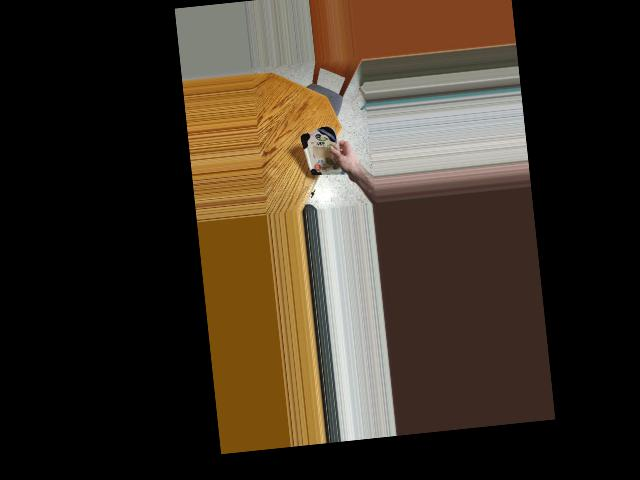cheese: (301, 123, 344, 188)
